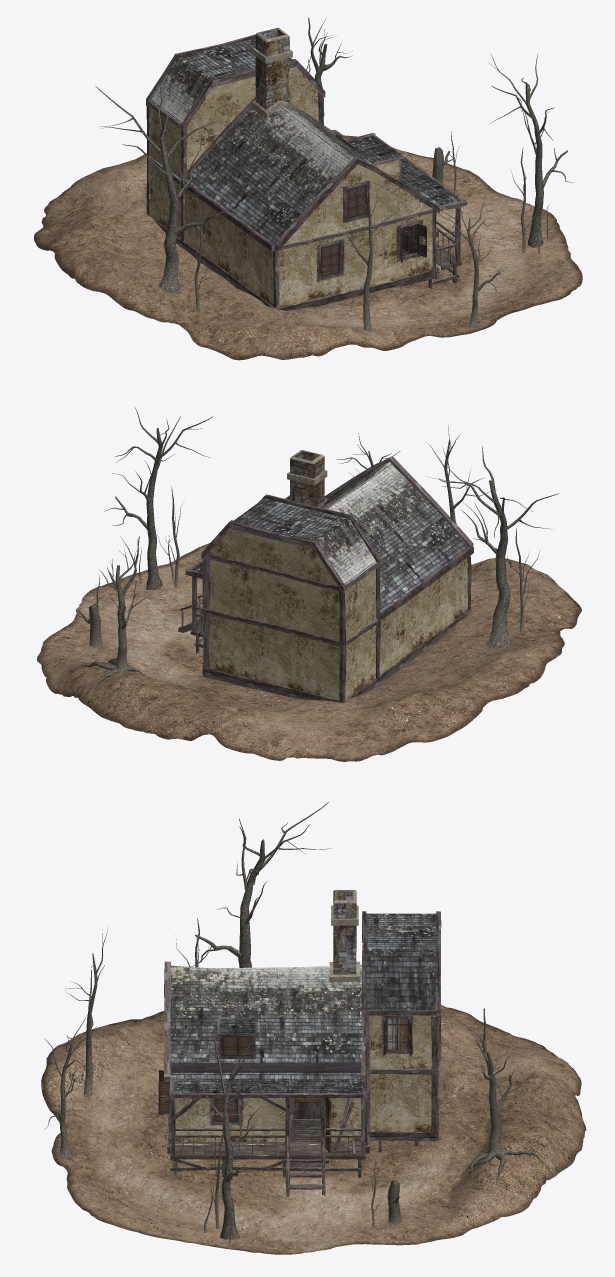
Rendered from casa_lider.fbx.
3 views of the same model, one above another, from view 1: azimuth 30°, elevation 25°; view 2: azimuth 150°, elevation 25°; view 3: azimuth 270°, elevation 25° (orthographic). The views are drawn at different scales.
Visible parts, largest first — view 1: Ground, Walls, Roof, Beames, Tree, Chimney, Windows; view 2: Ground, Walls, Roof, Beames, Tree, Chimney; view 3: Ground, Roof, Beames, Tree, Walls, OutSide_Floor, Chimney, Windows, Inside_Floor.
Part boxes in pixels (bbox=[...]): Ground: bbox=[34, 135, 582, 360]; Walls: bbox=[150, 67, 432, 306]; Roof: bbox=[150, 38, 460, 244]; Beames: bbox=[146, 34, 467, 310]; Tree: bbox=[95, 17, 574, 331]; Chimney: bbox=[252, 27, 293, 118]; Windows: bbox=[320, 184, 426, 277]; Ground: bbox=[37, 543, 581, 761]; Walls: bbox=[209, 529, 467, 700]; Roof: bbox=[191, 462, 468, 612]; Beames: bbox=[178, 456, 473, 702]; Tree: bbox=[77, 407, 558, 688]; Chimney: bbox=[287, 450, 327, 508]; Ground: bbox=[41, 1005, 586, 1254]; Roof: bbox=[170, 913, 437, 1093]; Beames: bbox=[164, 911, 441, 1196]; Tree: bbox=[44, 802, 543, 1242]; Walls: bbox=[175, 1015, 431, 1141]; OutSide_Floor: bbox=[170, 1142, 365, 1159]; Chimney: bbox=[329, 890, 360, 982]; Windows: bbox=[158, 1018, 411, 1121]; Inside_Floor: bbox=[216, 1101, 320, 1140].
Size of the model in its own units: 3260 by 1477 by 3199.
